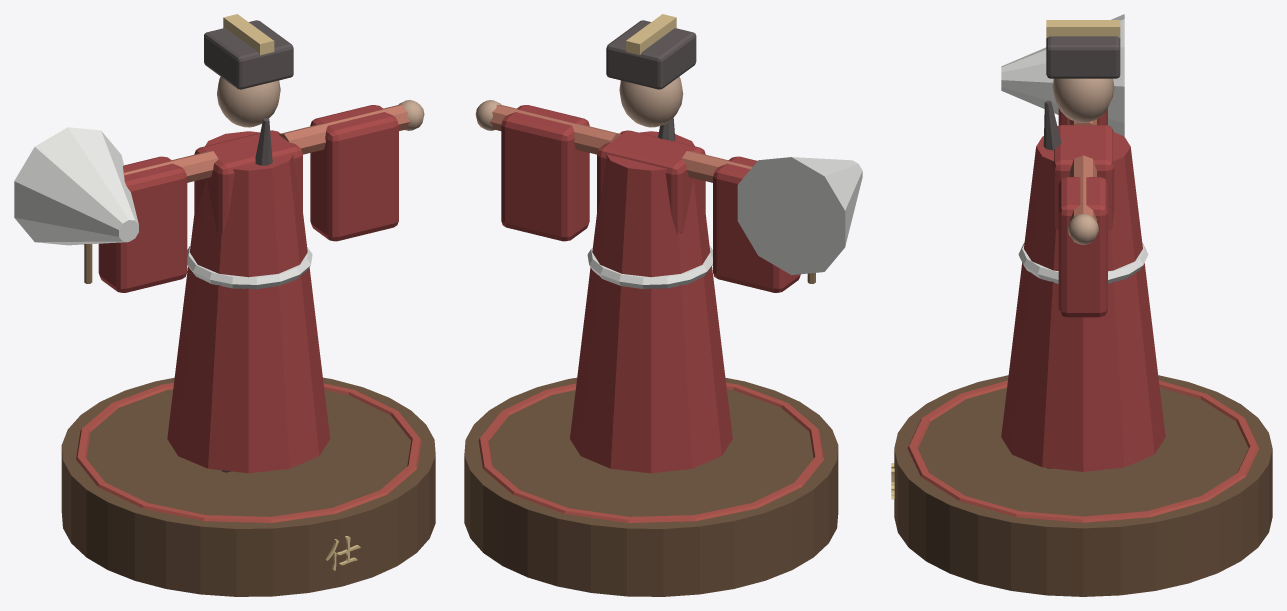
File: advisor_red.glb
3 renders of one model, left to right at view 1: azimuth 30°, elevation 25°; view 2: azimuth 150°, elevation 25°; view 3: azimuth 270°, elevation 25°, orthographic.
Visible parts, largest first — view 1: base, a_robe, a_fan, a_sleeve_1, a_sleeve_-1, base_trim_top, a_jinxian, a_chest, a_head, a_belt, a_arm_1, a_arm_-1 (+2 smaller); view 2: base, a_robe, a_fan, a_sleeve_1, a_sleeve_-1, base_trim_top, a_chest, a_jinxian, a_head, a_belt, a_arm_1, a_jinxian_ridge (+1 smaller); view 3: base, a_robe, a_sleeve_1, base_trim_top, a_fan, a_chest, a_jinxian, a_head, a_jinxian_ridge, a_belt, a_arm_1, a_hand_1 (+1 smaller).
Boxes of the visible parts, x1,y1,x2,y2 form: base: (61, 377, 435, 596); a_robe: (167, 131, 330, 473); a_fan: (14, 127, 138, 245); a_sleeve_1: (310, 105, 398, 241); a_sleeve_-1: (98, 156, 187, 292); base_trim_top: (76, 382, 421, 522); a_jinxian: (204, 20, 293, 89); a_chest: (194, 130, 302, 234); a_head: (217, 76, 280, 127); a_belt: (187, 245, 312, 289); a_arm_1: (279, 105, 410, 154); a_arm_-1: (123, 151, 218, 182); base: (464, 377, 838, 596); a_robe: (570, 131, 732, 473); a_fan: (737, 157, 862, 275); a_sleeve_1: (501, 105, 589, 241); a_sleeve_-1: (713, 156, 800, 292); base_trim_top: (478, 382, 823, 522); a_chest: (597, 130, 705, 233); a_jinxian: (606, 20, 696, 89); a_head: (619, 76, 683, 127); a_belt: (587, 246, 712, 289); a_arm_1: (489, 105, 620, 154); a_jinxian_ridge: (626, 14, 676, 55); base: (894, 375, 1272, 596); a_robe: (1001, 132, 1165, 471); a_sleeve_1: (1058, 177, 1107, 317); base_trim_top: (907, 380, 1259, 522); a_fan: (1001, 14, 1124, 136); a_chest: (1052, 125, 1114, 230); a_jinxian: (1046, 36, 1120, 78); a_head: (1052, 78, 1114, 122); a_jinxian_ridge: (1046, 20, 1120, 37); a_belt: (1018, 242, 1148, 283); a_arm_1: (1070, 155, 1096, 221); a_hand_1: (1068, 214, 1098, 244).
Size of the model in its own units: 1.1 by 1.32 by 0.927.
